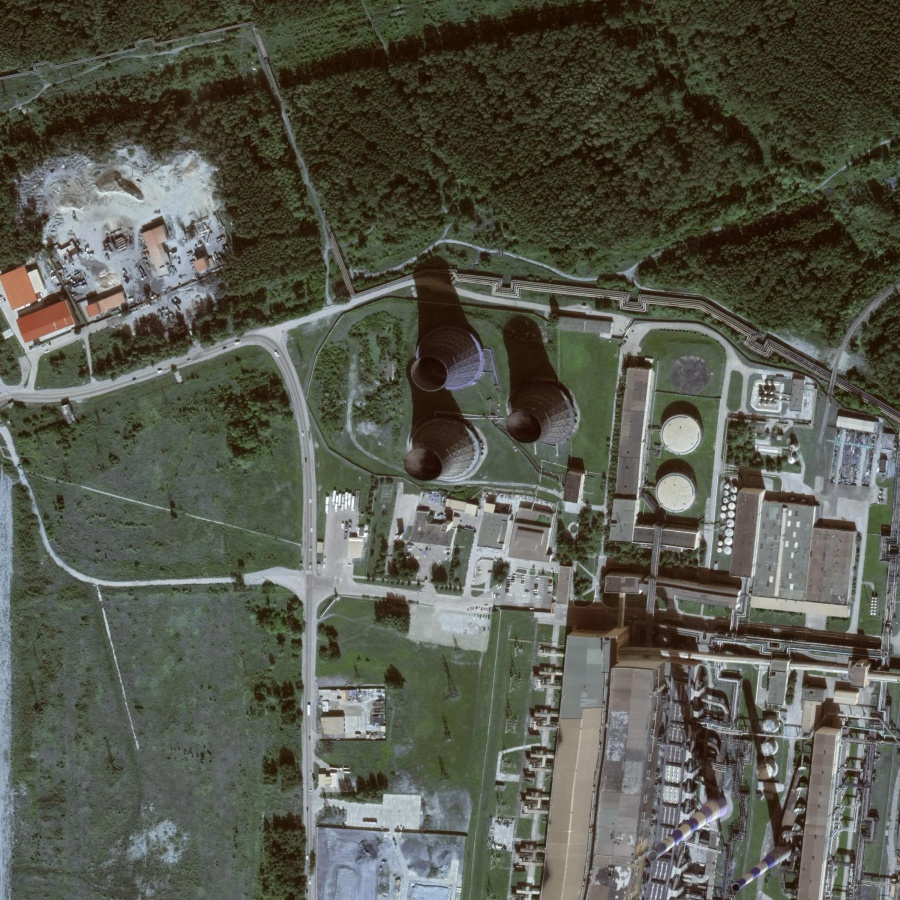PowerPlant: (391, 244, 723, 558)
